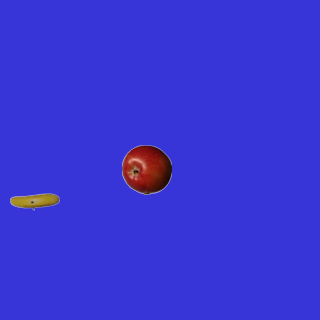Apple Braeburn: (121, 144, 171, 194)
Banana: (9, 176, 59, 226)
